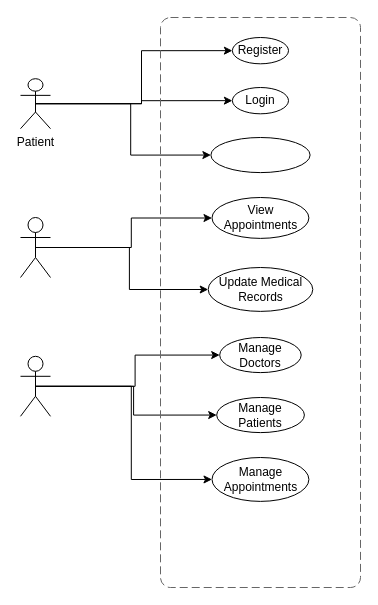
Image size: 378x605. Some labels were removed from this diagram. Here are the shapes that lost their labels. From the top down, the box of each, then its label:
(210, 136, 310, 173): Book Appointment
(20, 216, 50, 278): Doctor
(160, 16, 360, 588): Traditional Medicine and Spa Center [Patient Registration System]
(20, 355, 50, 416): Admin
